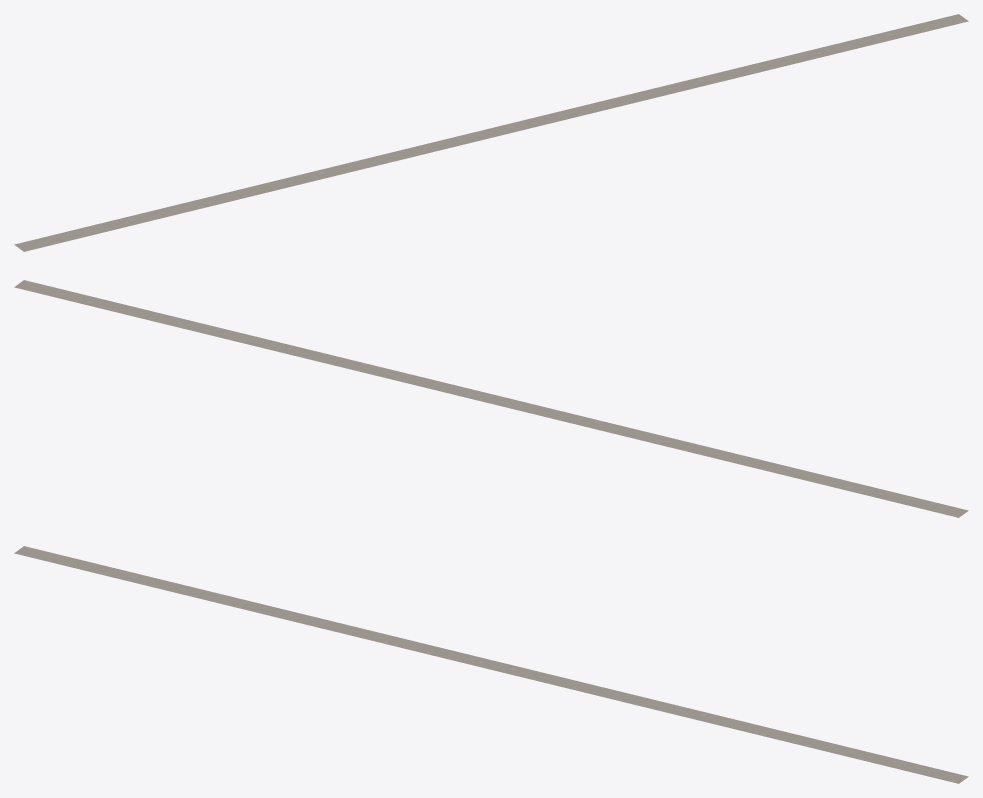
Rendered from kd_stage_135ded_4_82_exterior_piece_2.glb.
3 renders of one model, top to bottom at view 1: azimuth 30°, elevation 25°; view 2: azimuth 150°, elevation 25°; view 3: azimuth 330°, elevation 25°, orthographic.
Visible parts, largest first — view 1: kd_stage_135ded_4_82_exterior_piece_2; view 2: kd_stage_135ded_4_82_exterior_piece_2; view 3: kd_stage_135ded_4_82_exterior_piece_2.
Part boxes in pixels (<box>): kd_stage_135ded_4_82_exterior_piece_2: <box>14,14,968,251</box>; kd_stage_135ded_4_82_exterior_piece_2: <box>14,280,968,517</box>; kd_stage_135ded_4_82_exterior_piece_2: <box>14,546,968,783</box>.
Size of the model in its own units: 1.09 by 0 by 0.0202.
Materials: 1 (1 with a texture image).
